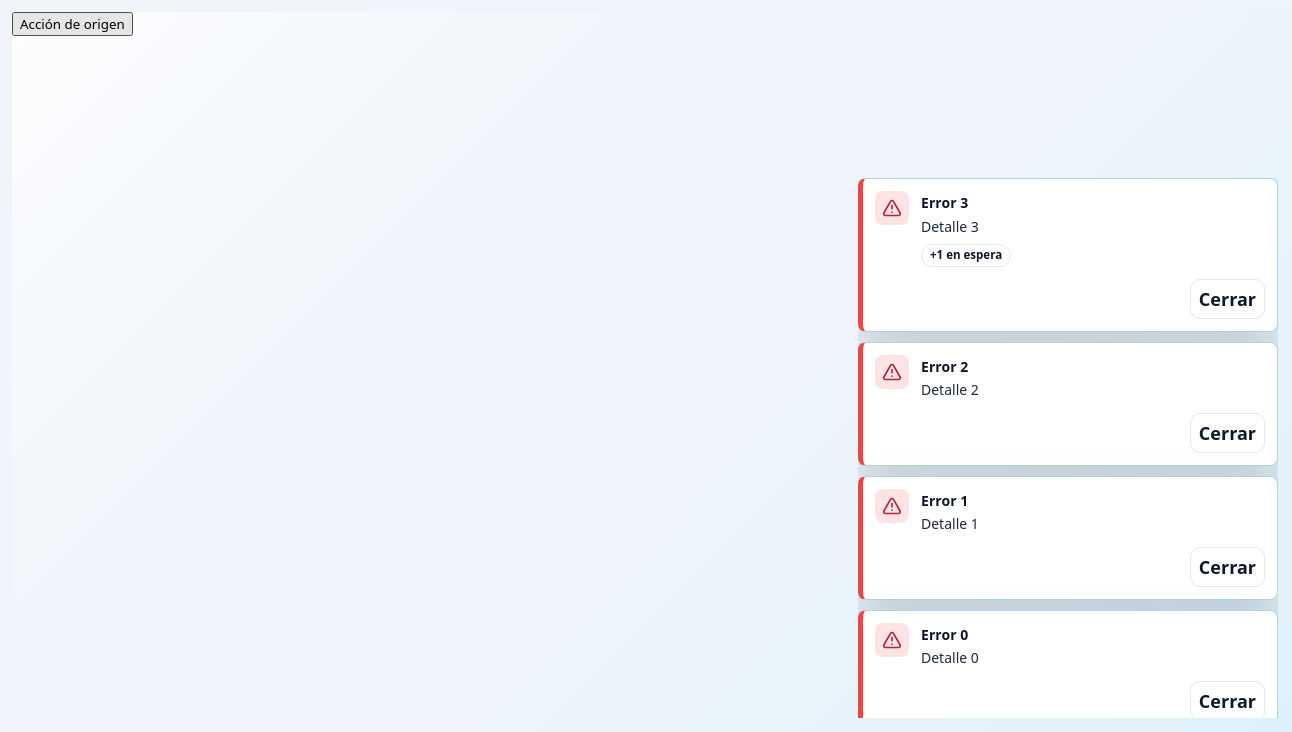
Scenario: ToastProvider › encola los avisos que superan el límite y conserva los errores hasta que se cierren
The width and height of the screenshot is (1292, 732).
Expected: the text "+1 en espera" is shown, [921,244,1011,267]
Click the button with aria-label "Cerrar notificación: Error 3" at (1227, 299), box [1190,279,1265,319]
Wait 30000 ms
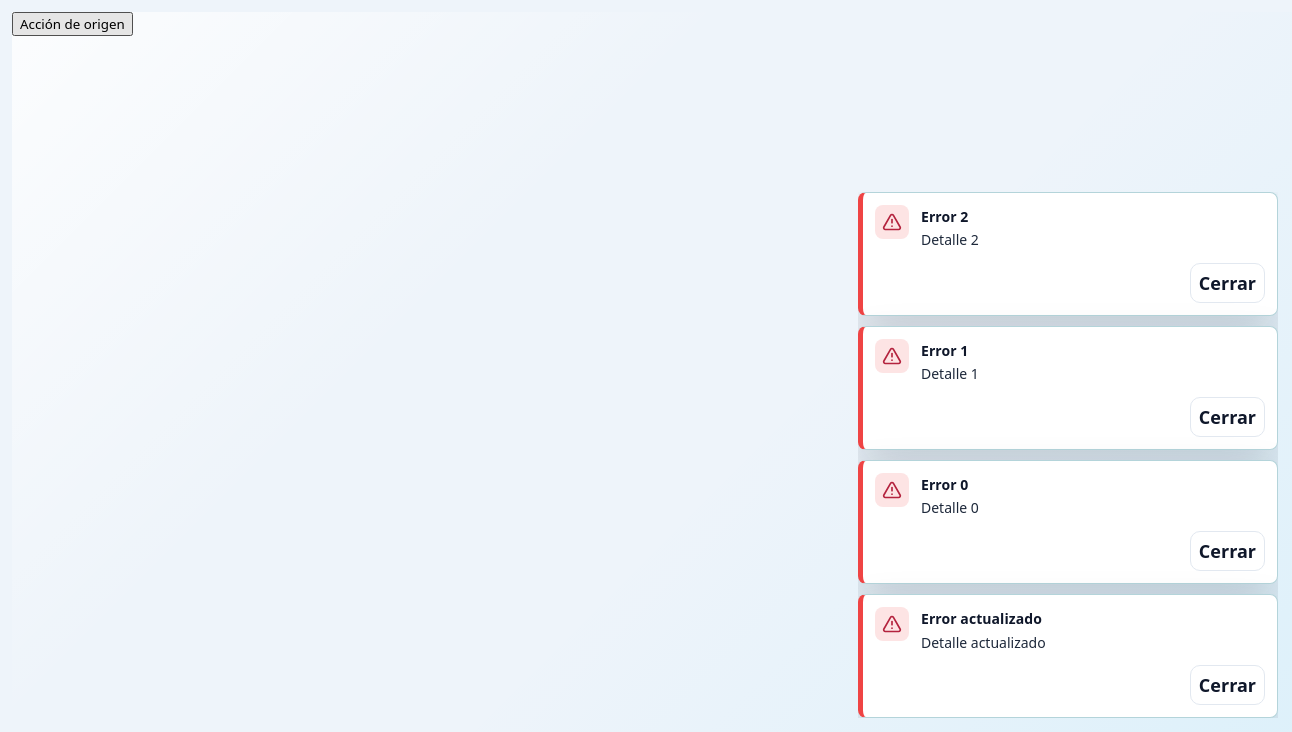
Now the element "Error actualizado" shows "Detalle actualizado", box [921,633,1046,652]
Now the element "Error actualizado" is shown, box [858,594,1278,718]
